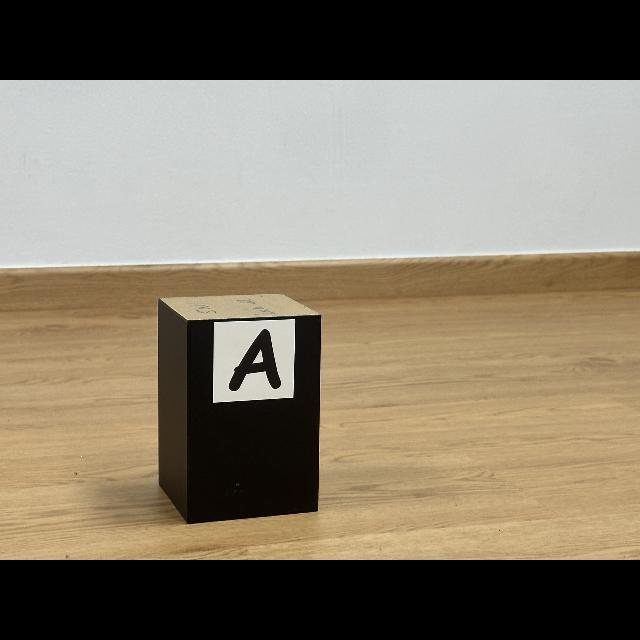A: (229, 329, 281, 391)
